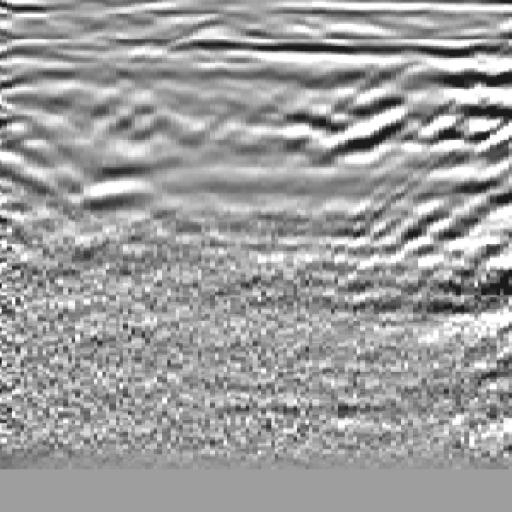metalic: (44, 33, 205, 277)
nonmetalic: (383, 41, 512, 298)
